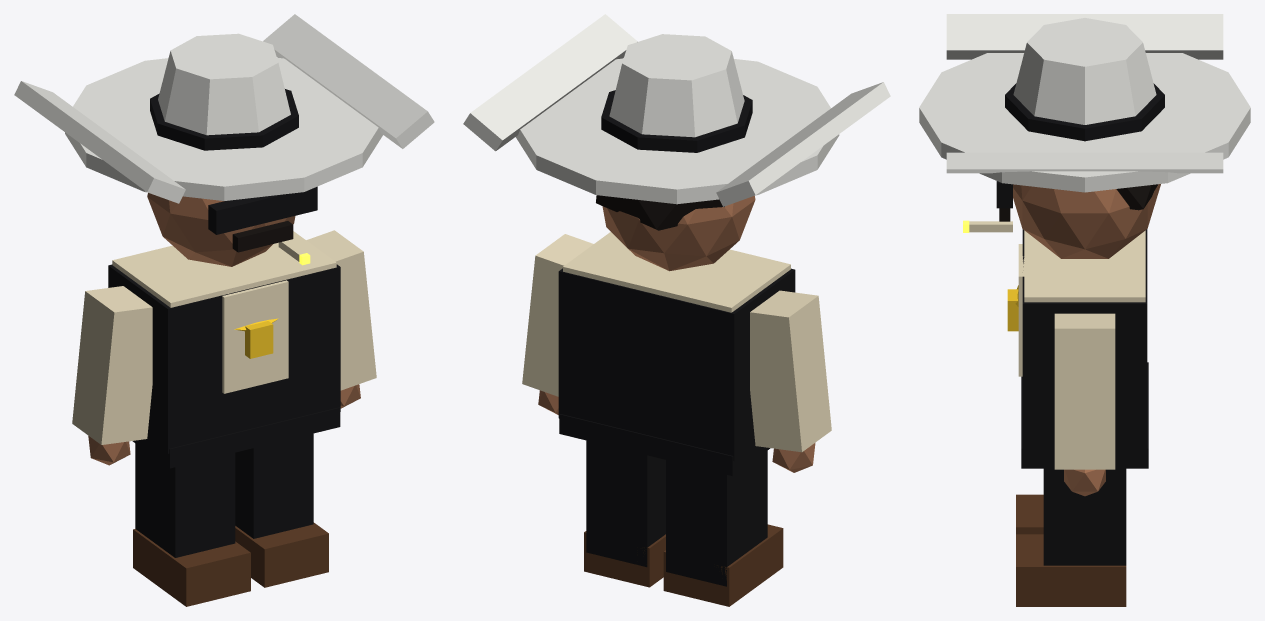
File: Org Lider.fbx
3 renders of one model, left to right at view 1: azimuth 30°, elevation 25°; view 2: azimuth 150°, elevation 25°; view 3: azimuth 270°, elevation 25°, orthographic. The views are drawn at different scales.
Visible parts, largest first — view 1: Org Lider; view 2: Org Lider; view 3: Org Lider.
Part boxes in pixels (x1,y1,x2,y2): Org Lider: [14, 14, 434, 606]; Org Lider: [463, 14, 890, 606]; Org Lider: [919, 14, 1250, 606].
Size of the model in its own units: 0.6243 by 1.06 by 0.6.
